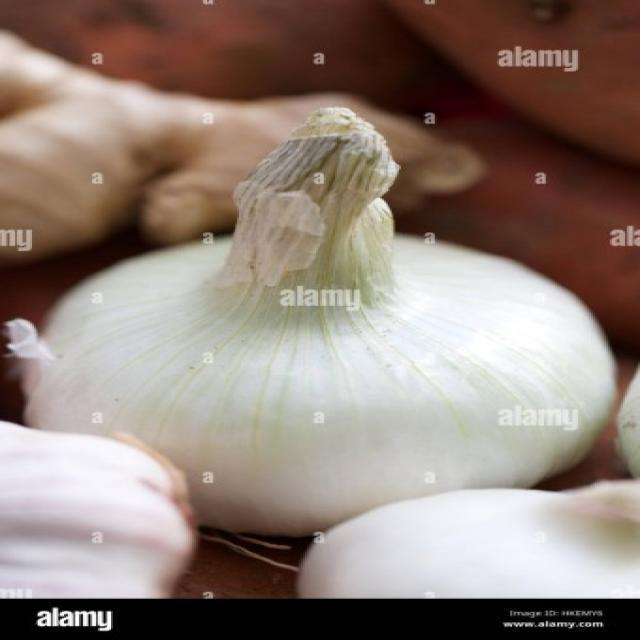Onion: (8, 104, 622, 571)
